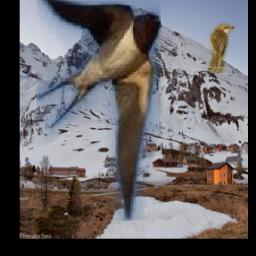Cuckoo: (208, 24, 235, 74)
Swallow: (37, 0, 161, 220)
